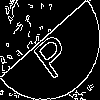P: (25, 25, 76, 81)
